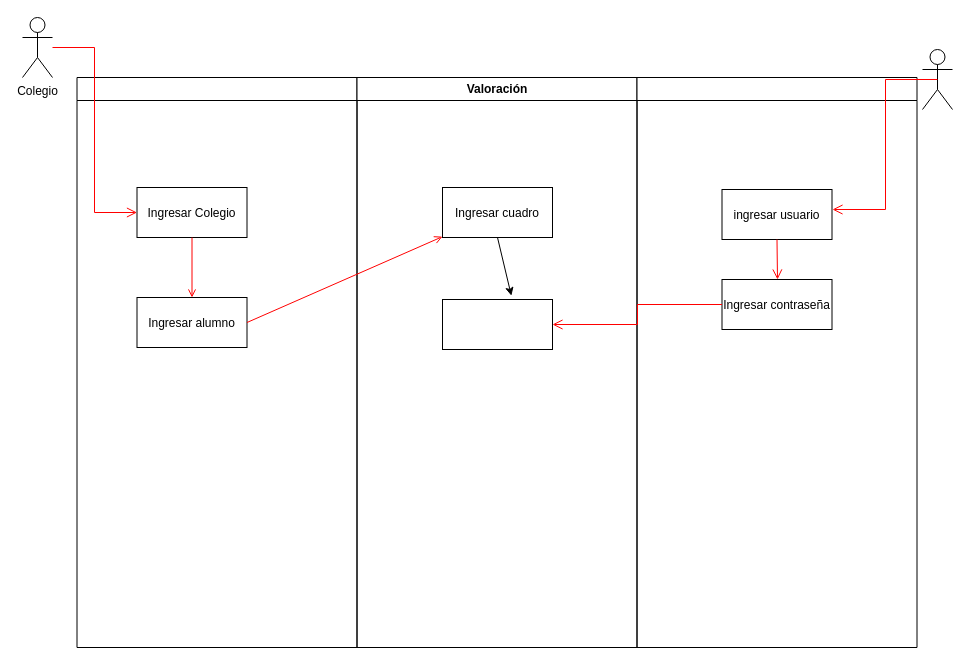
The diagram is 975 pixels wide and 665 high, and some of its shapes have lost their labels. Each missing label, with the box of its shape:
Registro: (76, 76, 357, 648)
Regstro: (636, 76, 917, 648)
Usuario: (922, 48, 952, 110)
Valorar cuadros: (442, 298, 552, 350)
